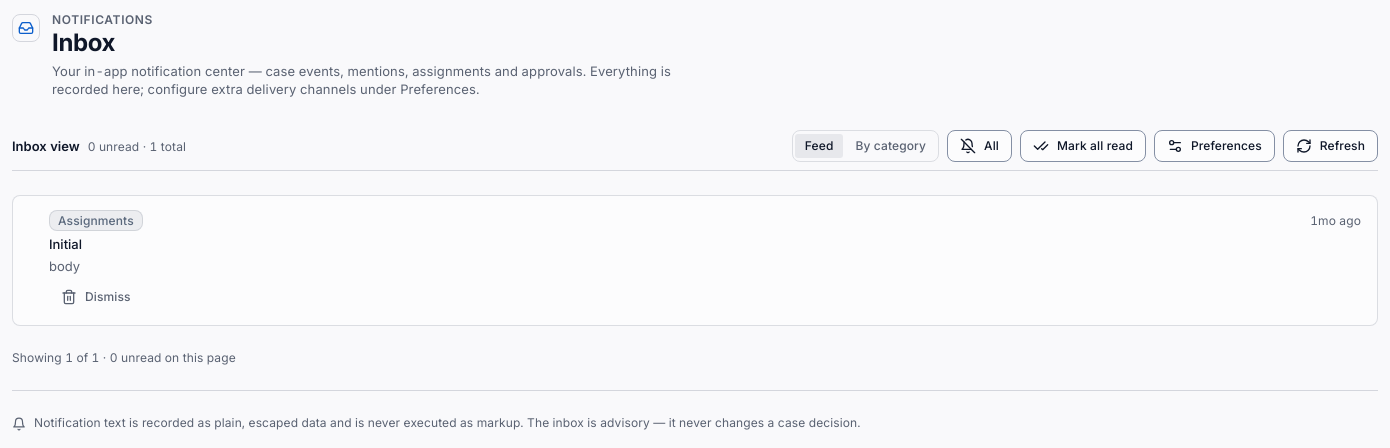
Test case: Inbox stale-while-revalidate (findings #35/#36) › ignores a superseded (out-of-order) response via the sequence guard
expect the text "Initial" is shown: met, box [49,236,82,252]
Click the button "All" at (980, 146), box [947,130,1012,162]
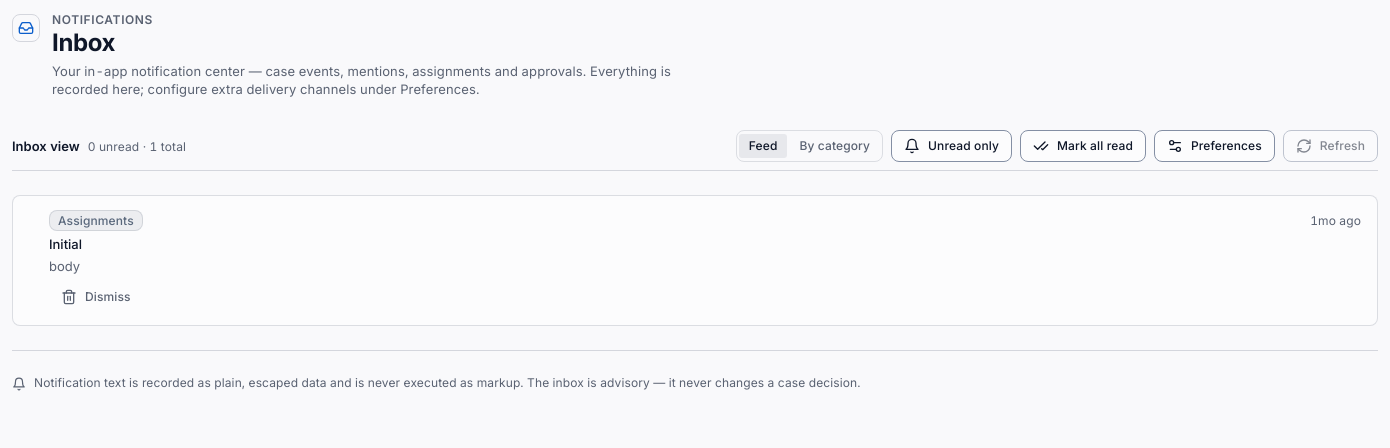
Click the button "Unread only" at (952, 146), box [891,130,1012,162]
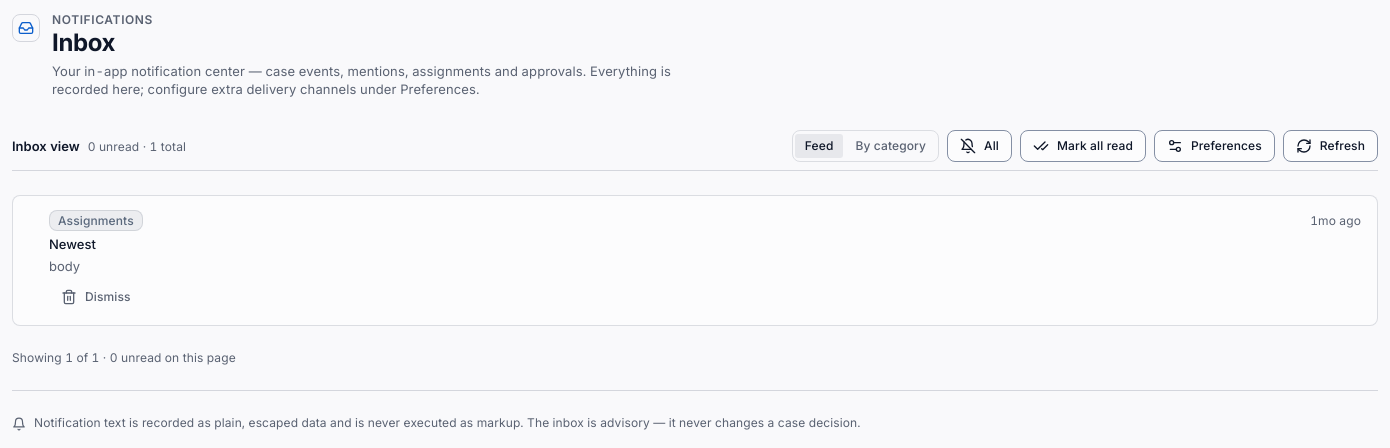
expect the text "Newest" is shown: met, box [49,236,96,252]
